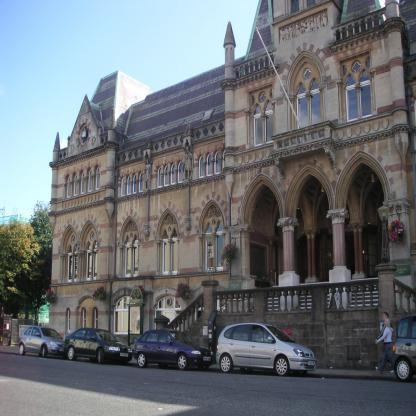Car: (212, 322, 318, 377), (134, 326, 212, 369), (66, 325, 134, 366), (388, 311, 416, 383), (18, 322, 66, 359)
